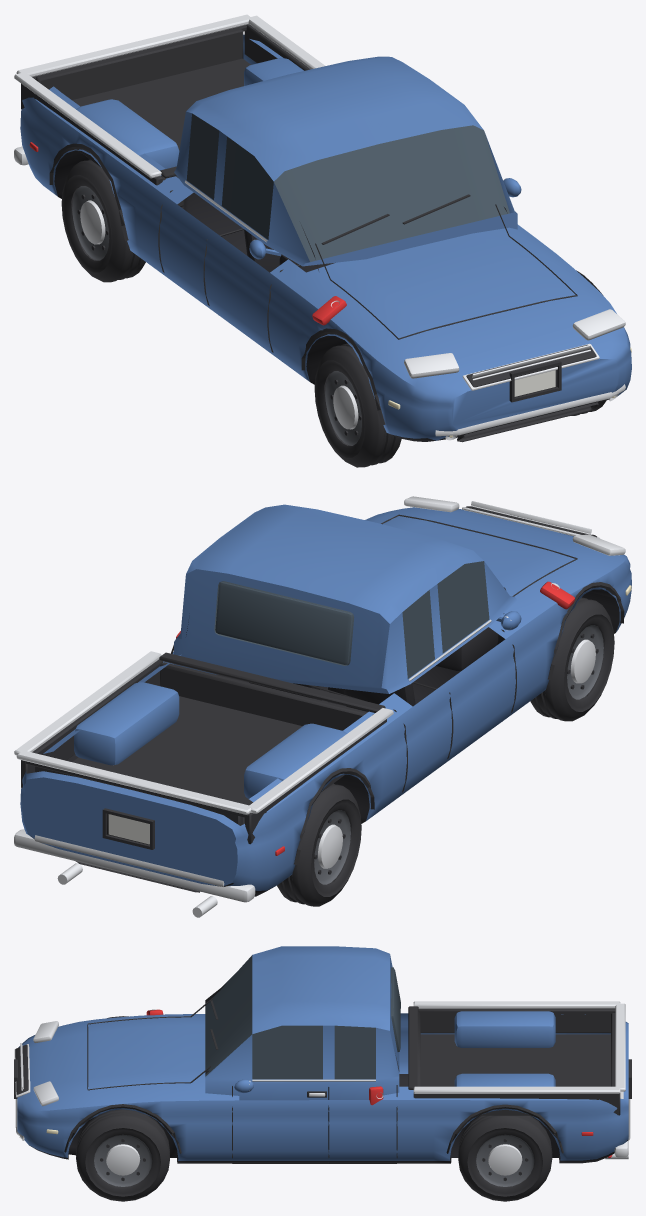
File: CarV2_Pickup.fbx
3 renders of one model, top to bottom at view 1: azimuth 30°, elevation 25°; view 2: azimuth 150°, elevation 25°; view 3: azimuth 270°, elevation 25°, orthographic. The views are drawn at different scales.
Parts seen in each view (by area): view 1: CarV2_Pickup; view 2: CarV2_Pickup; view 3: CarV2_Pickup.
Boxes of the visible parts, x1,y1,x2,y2 form: CarV2_Pickup: (14,14,631,467); CarV2_Pickup: (14,496,631,917); CarV2_Pickup: (14,946,631,1201).
Bounding box in the file's own units: 1.98 × 1.7 × 5.26.
